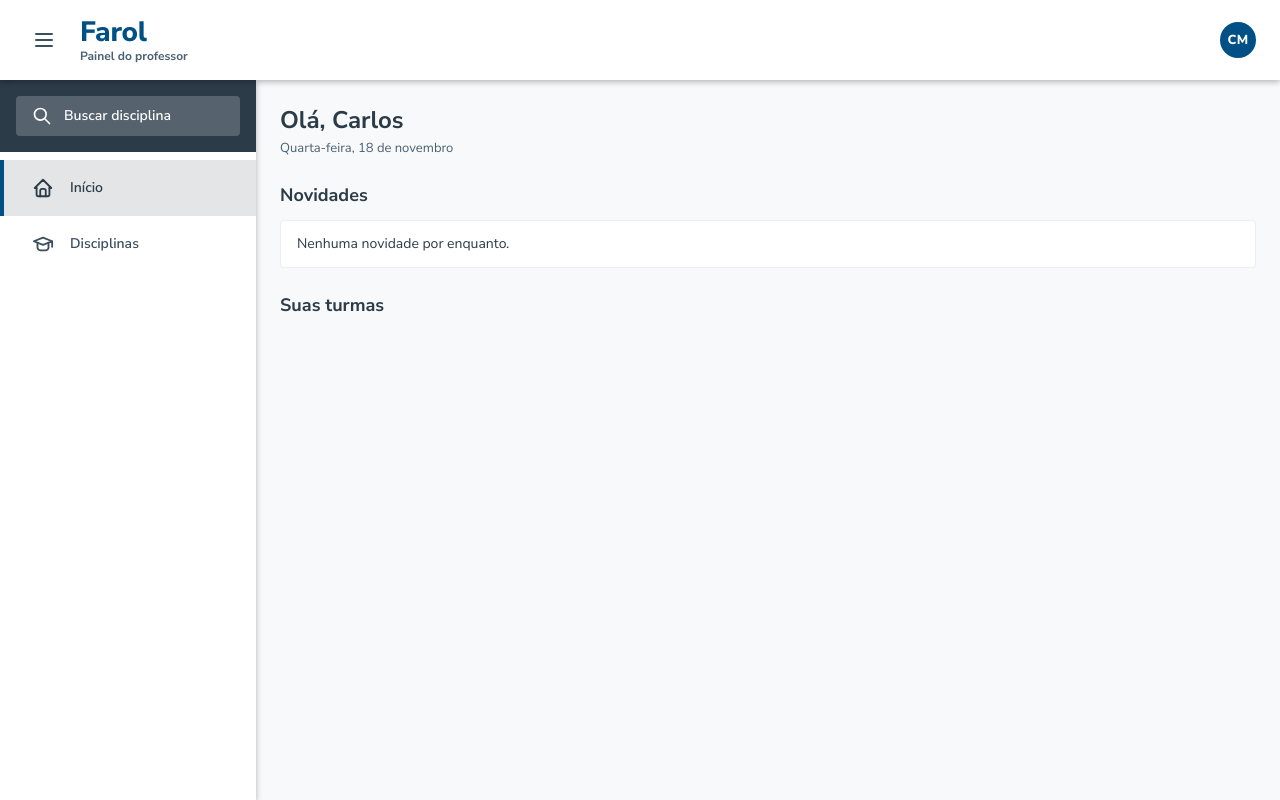
Scenario: login com o Google e troca de perfil (ACE-T23) › quem tem dois perfis troca o perfil em uso sem sair (ACE-RF-03)
Click the button with aria-label "Conta de Carlos Mendes" at (1238, 40), box x1=1220 y1=22 x2=1256 y2=58
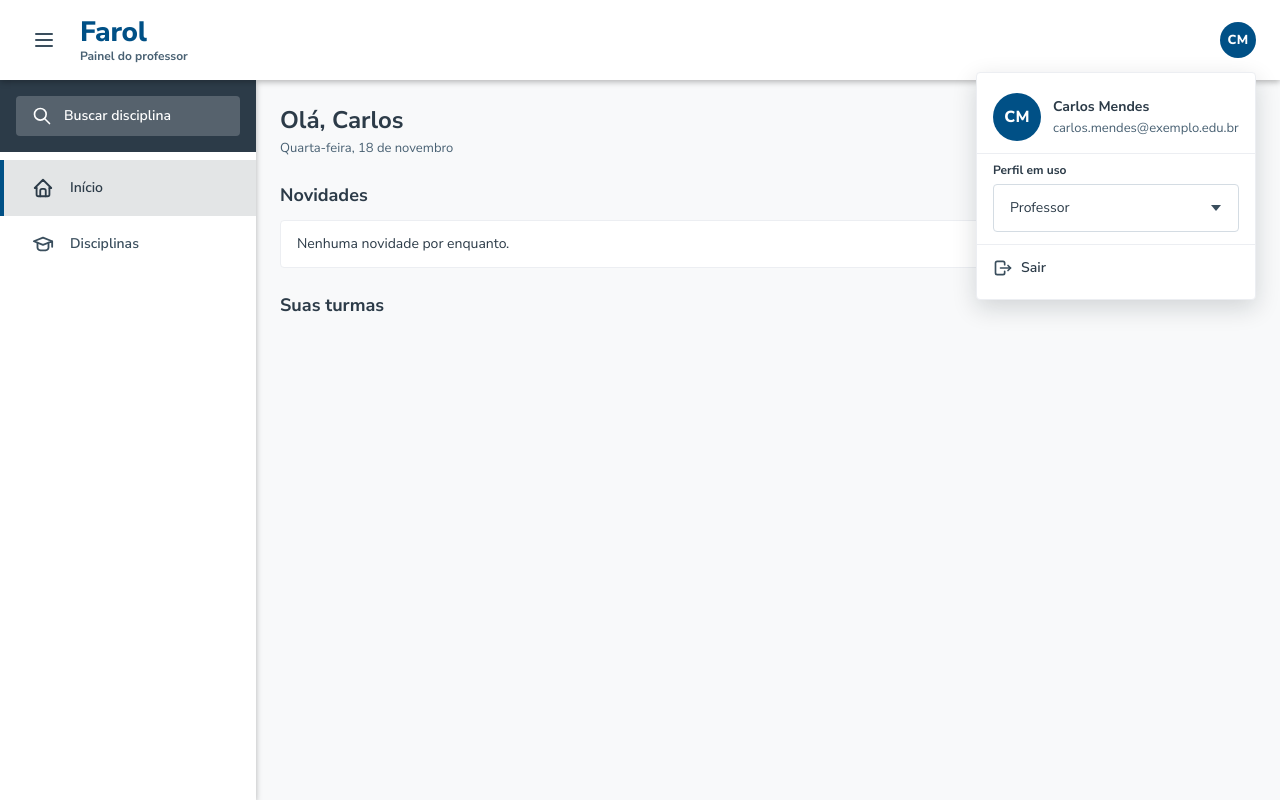
Expected: the dropdown labelled "Perfil em uso" shows "Professor"
Select "Aluno" in the dropdown labelled "Perfil em uso" at (1116, 208), box x1=993 y1=184 x2=1239 y2=232
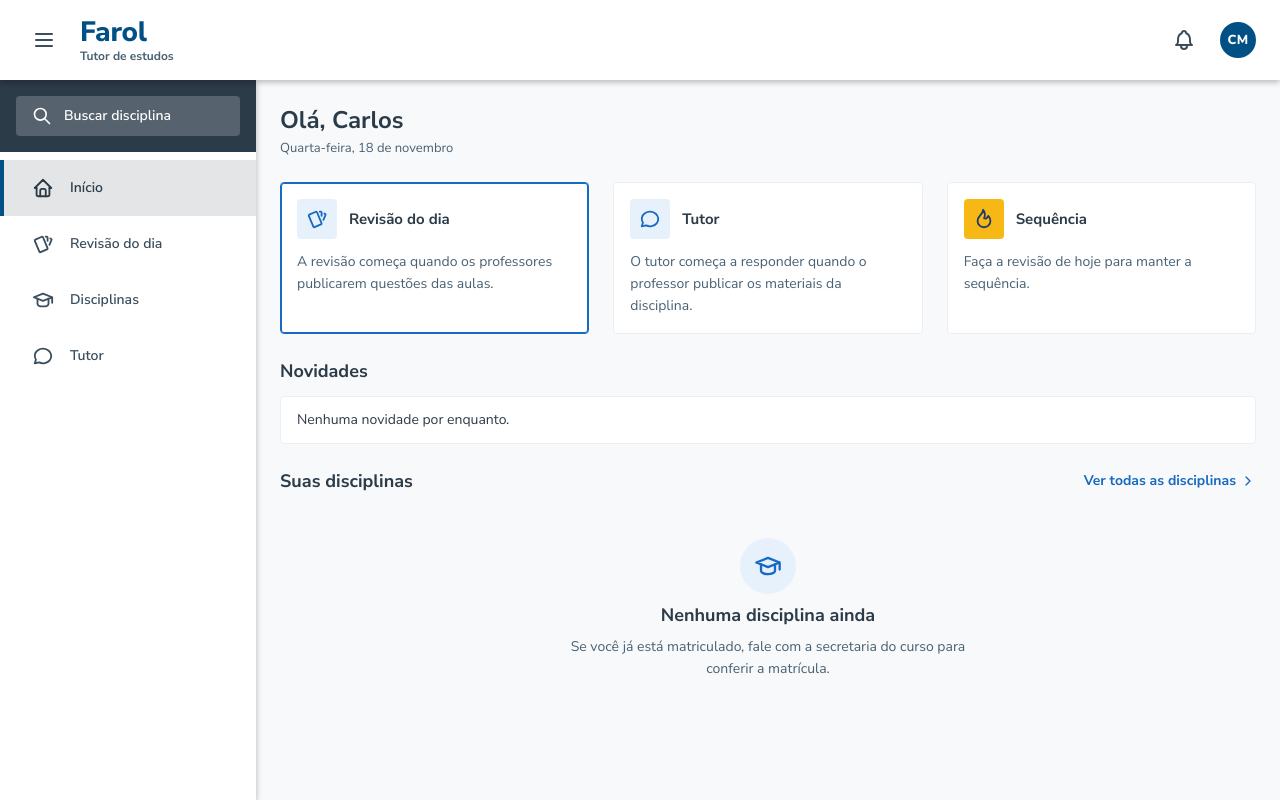
Expected: the link with aria-label "Farol, página inicial" shows "Tutor de estudos", x1=80 y1=18 x2=174 y2=62
